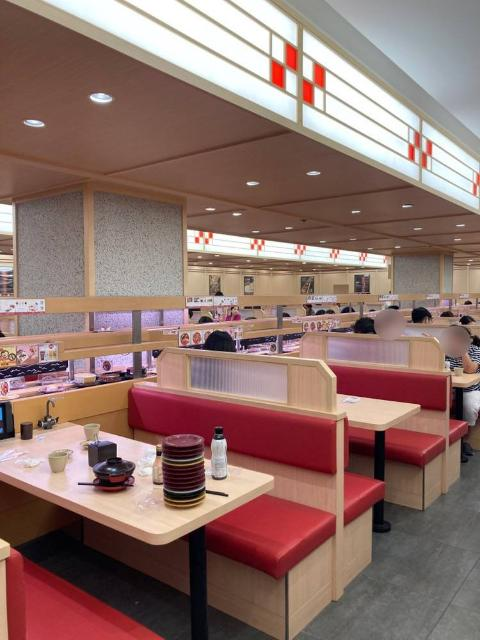janback: (164, 493, 201, 498)
jangold: (164, 502, 200, 509), (167, 497, 203, 503), (164, 461, 209, 465)
janred: (87, 481, 141, 494), (163, 435, 206, 446), (164, 475, 211, 481), (162, 470, 208, 476), (163, 446, 208, 452), (161, 466, 209, 470), (163, 485, 208, 489), (162, 452, 206, 456), (164, 481, 212, 484)
janwhite: (162, 457, 207, 460), (163, 490, 204, 493)
